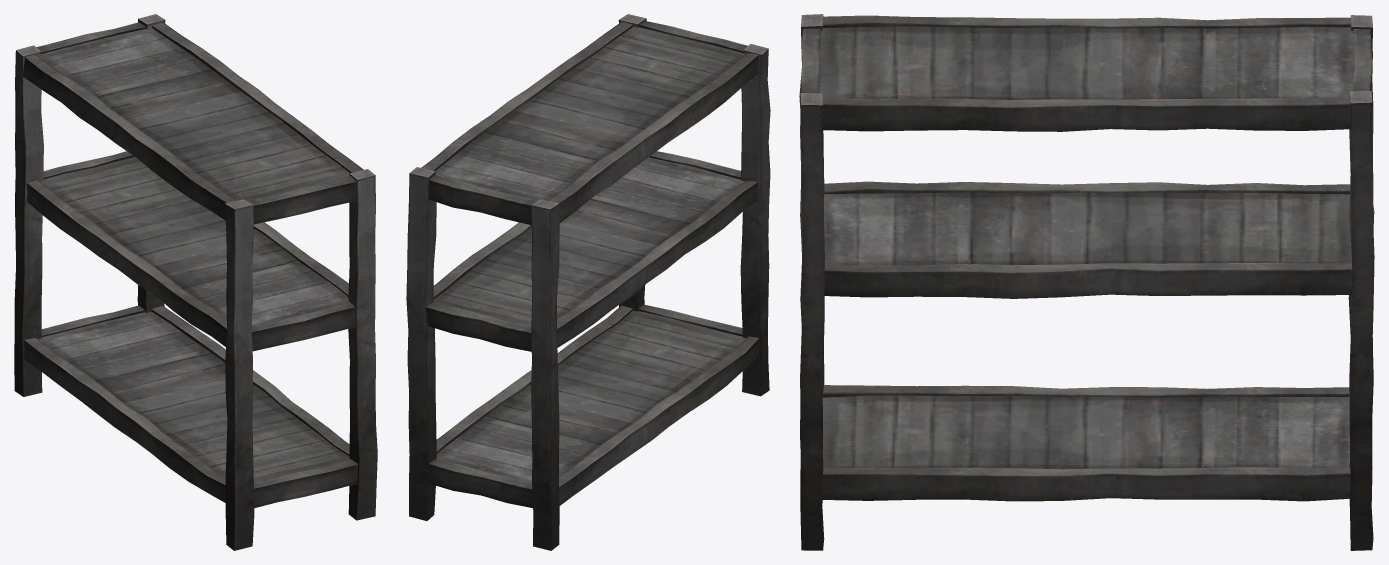
Rendered from mostrador.obj.
3 views of the same model, side by side, from view 1: azimuth 30°, elevation 25°; view 2: azimuth 150°, elevation 25°; view 3: azimuth 270°, elevation 25° (orthographic). The views are drawn at different scales.
Visible parts, largest first — view 1: mostrador; view 2: mostrador; view 3: mostrador.
Part boxes in pixels (left/top/right/bottom): mostrador: left=14, top=14, right=377, bottom=550; mostrador: left=406, top=14, right=770, bottom=550; mostrador: left=799, top=14, right=1374, bottom=550.
Size of the model in its own units: 2.66 by 5.96 by 6.94.
Materials: 1 (1 with a texture image).
